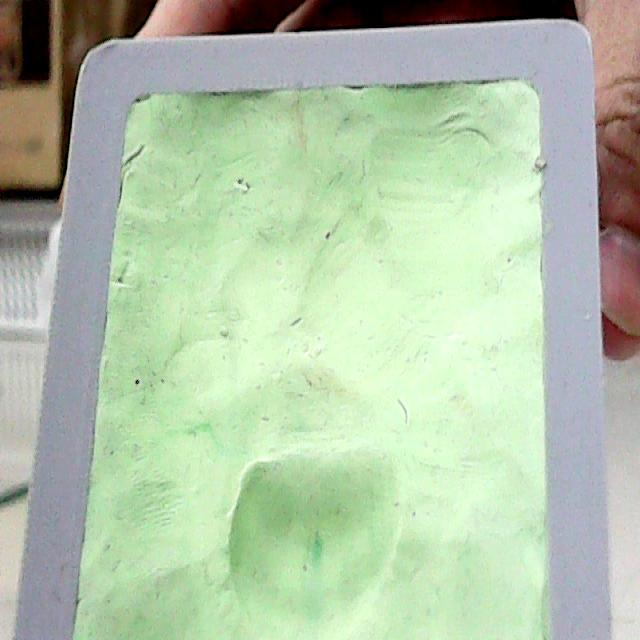block: (0, 24, 626, 640)
